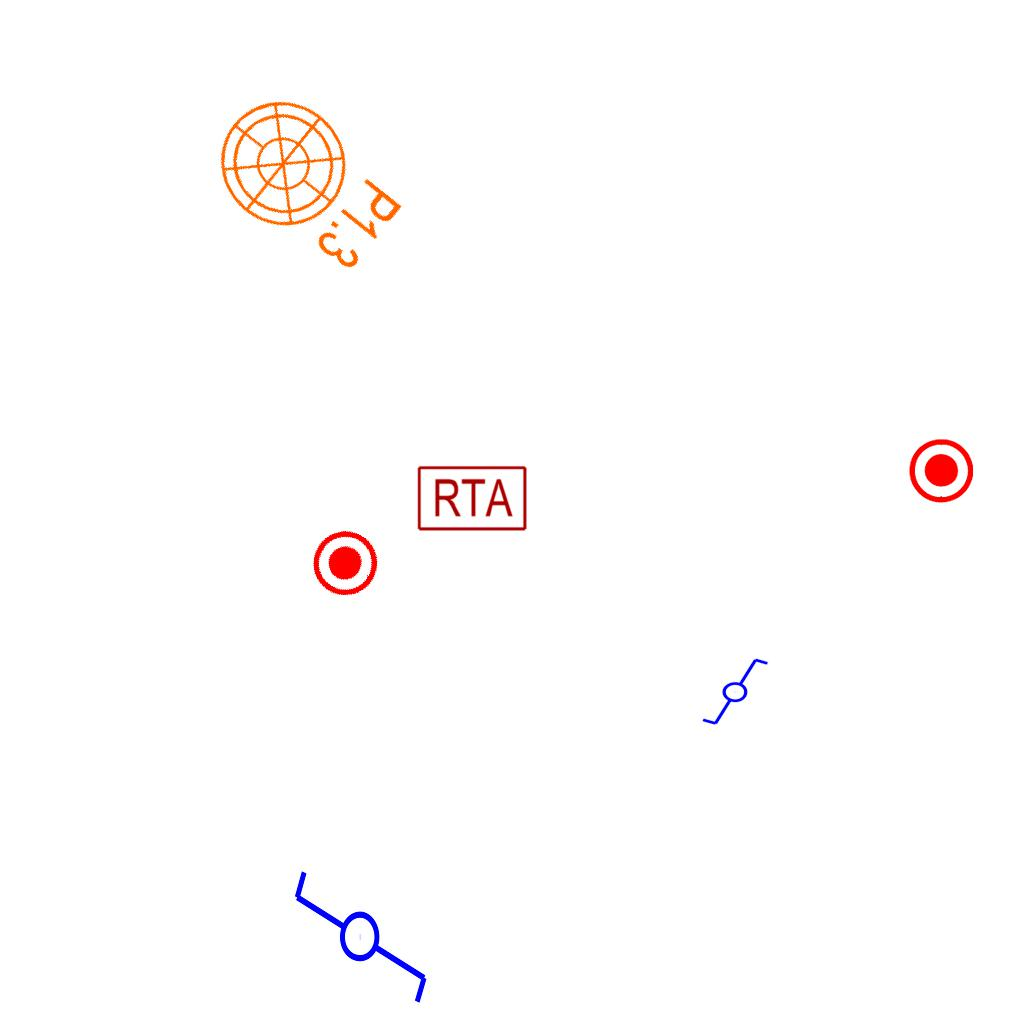Aufbaurundleuchte_LED_Treppenhaus: (184, 71, 431, 310)
Ruf-und_Abstelltaster: (414, 464, 528, 533)
Taster: (298, 518, 390, 610), (907, 437, 973, 503)
Wechselschalter: (290, 850, 434, 1007), (692, 655, 770, 727)
